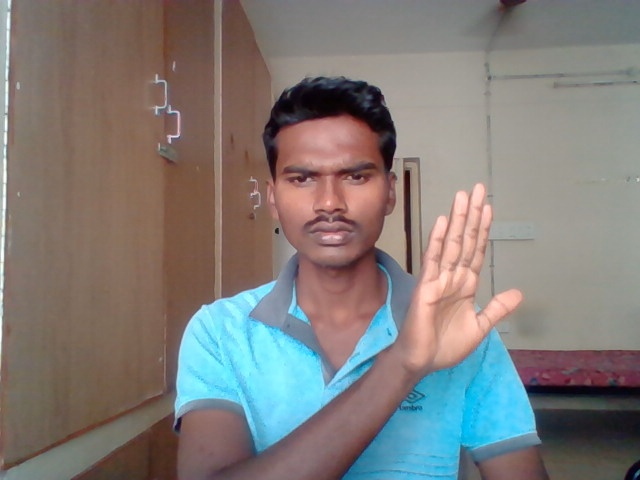Hello: (401, 183, 525, 371)
